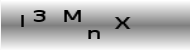3: (32, 8, 46, 24)
M: (62, 8, 83, 23)
X: (114, 15, 131, 30)
l: (19, 13, 25, 29)
n: (86, 28, 101, 40)
